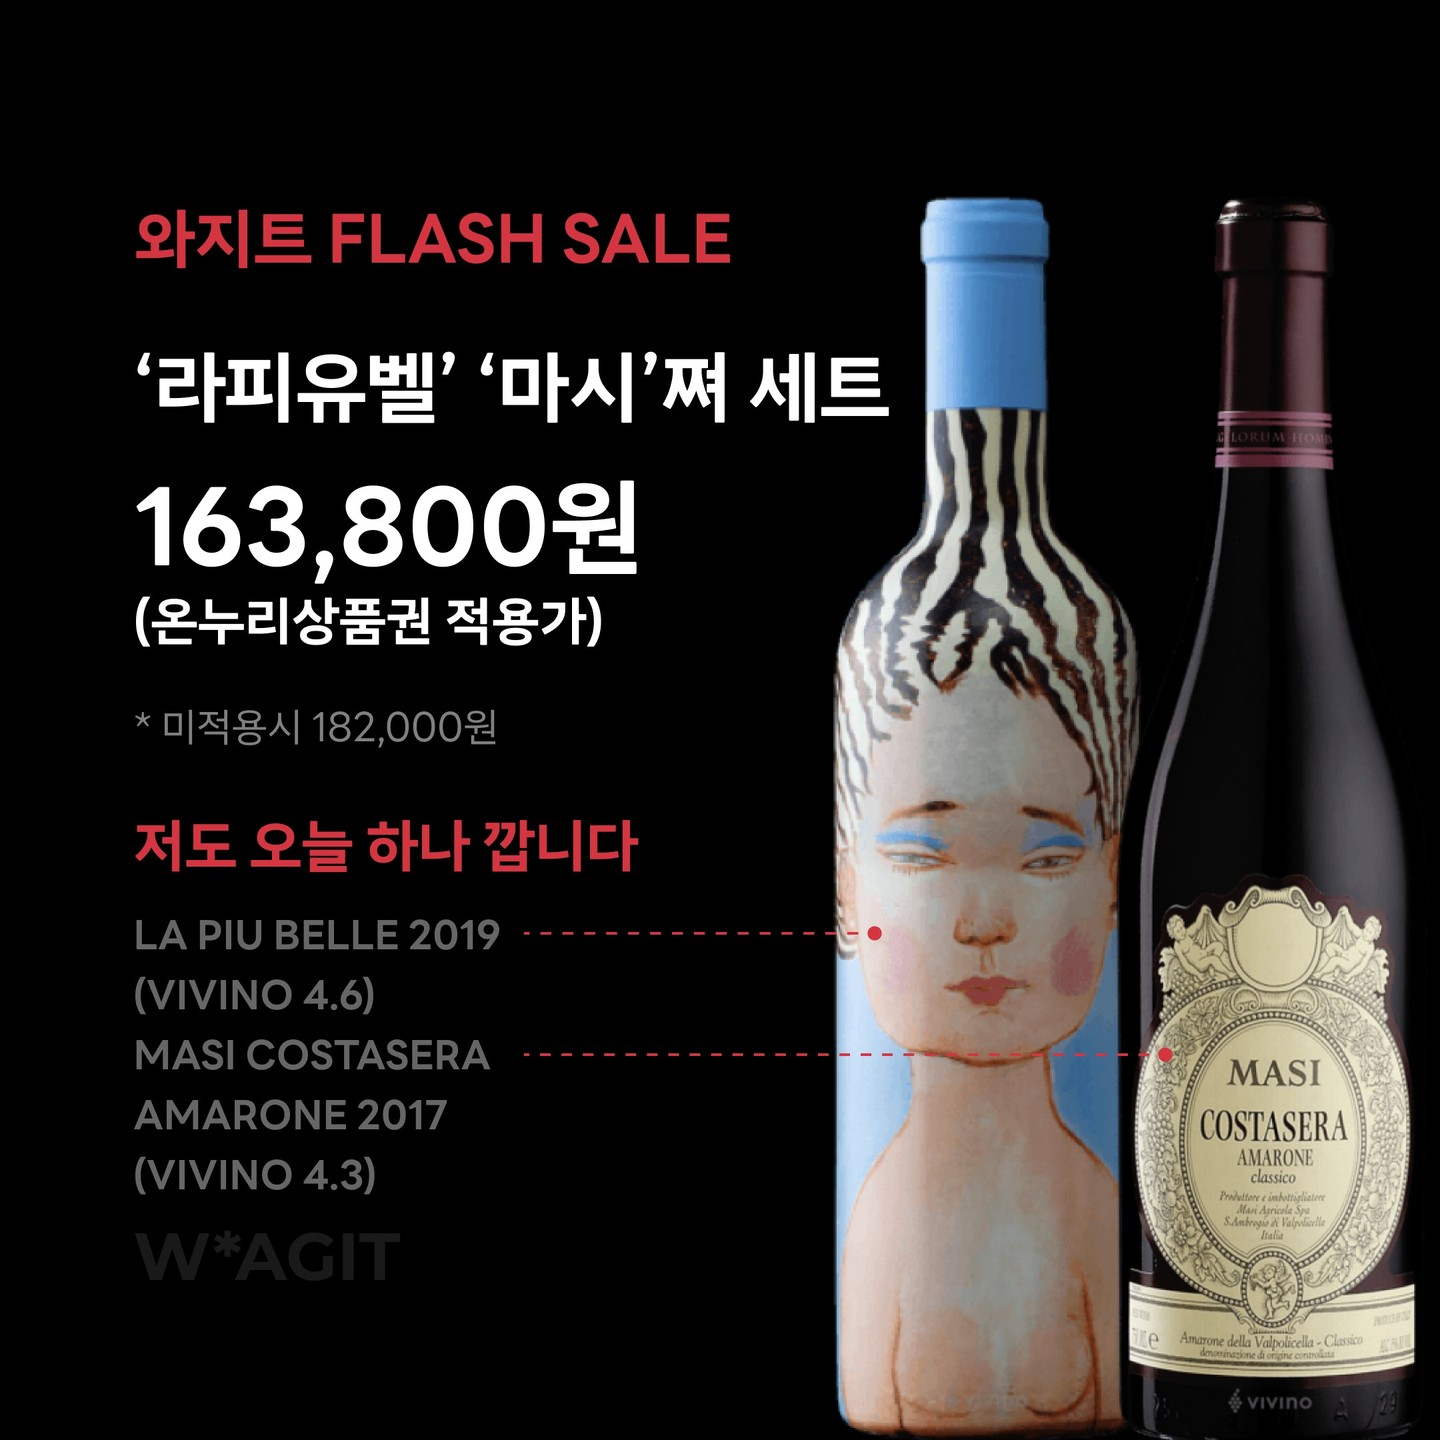alcohol: (823, 187, 1150, 1440), (1109, 187, 1420, 1440)
